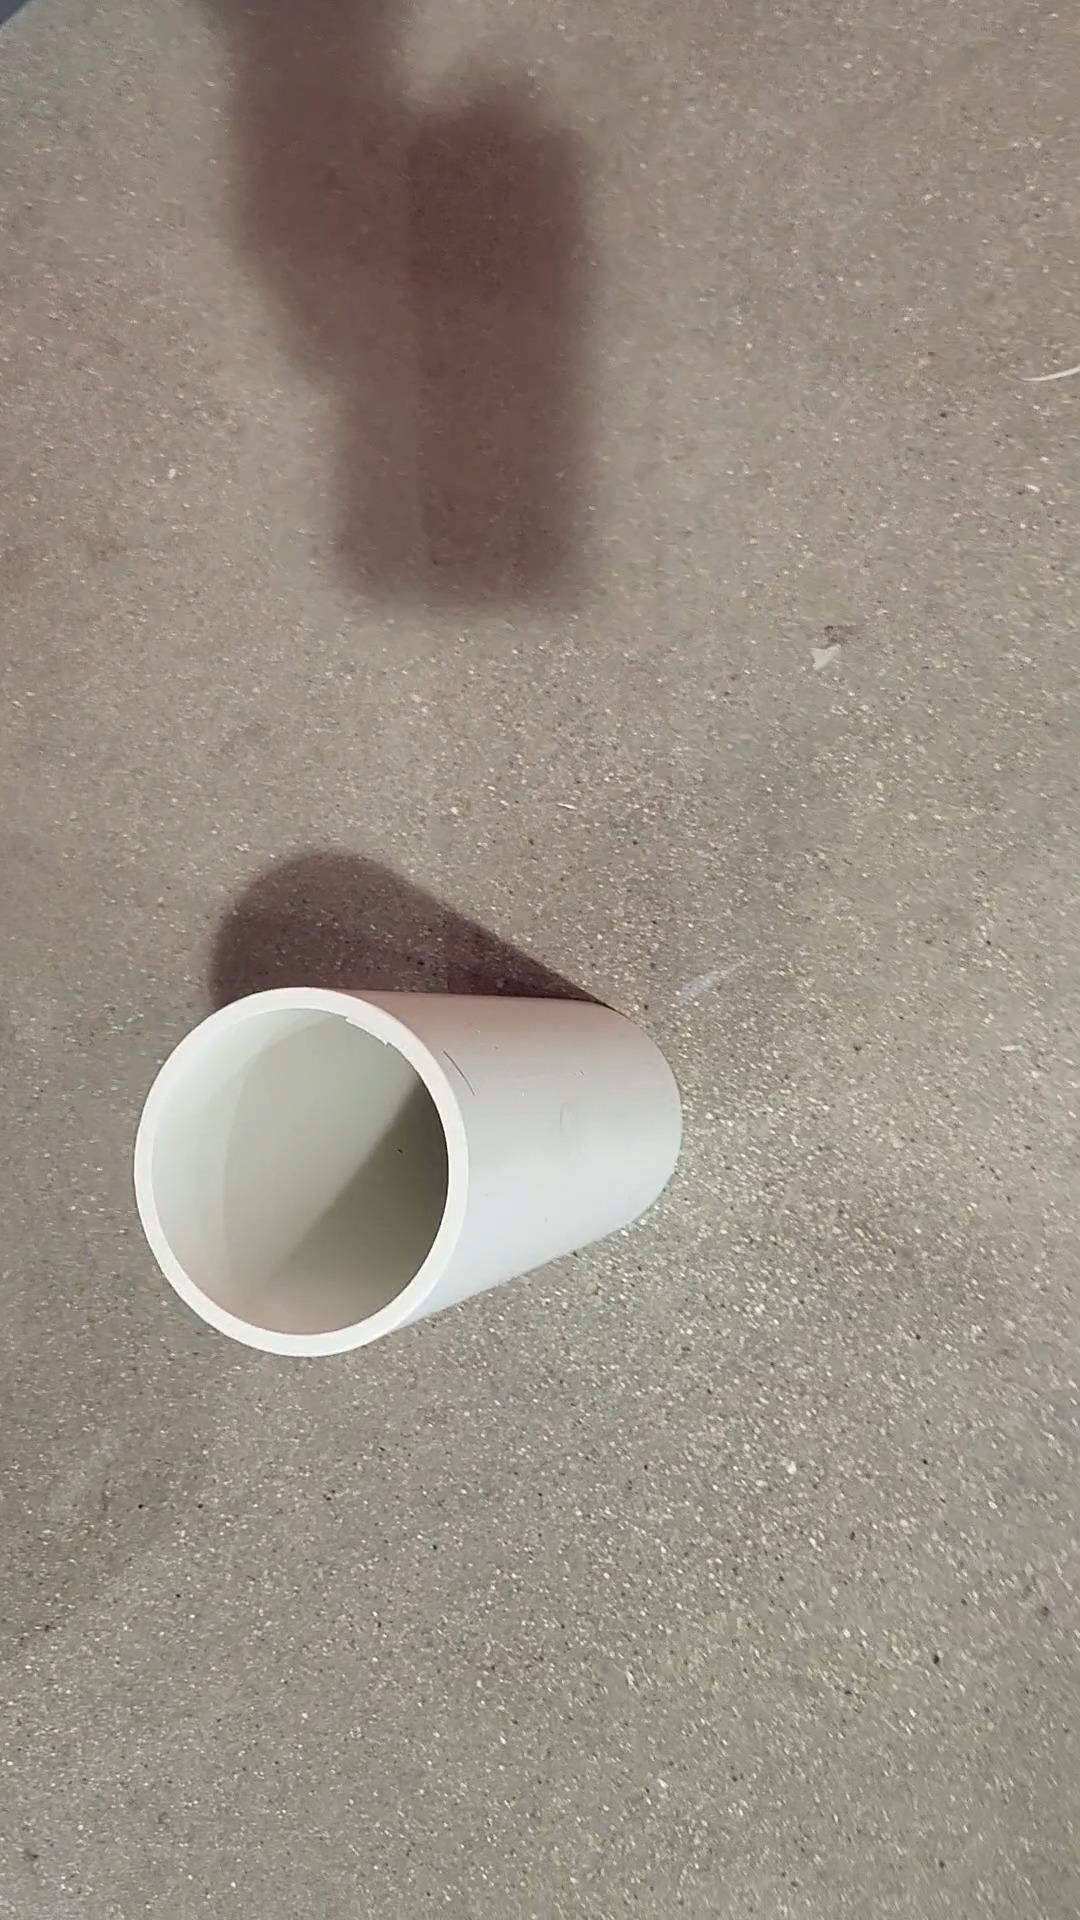coral: (137, 981, 687, 1373)
